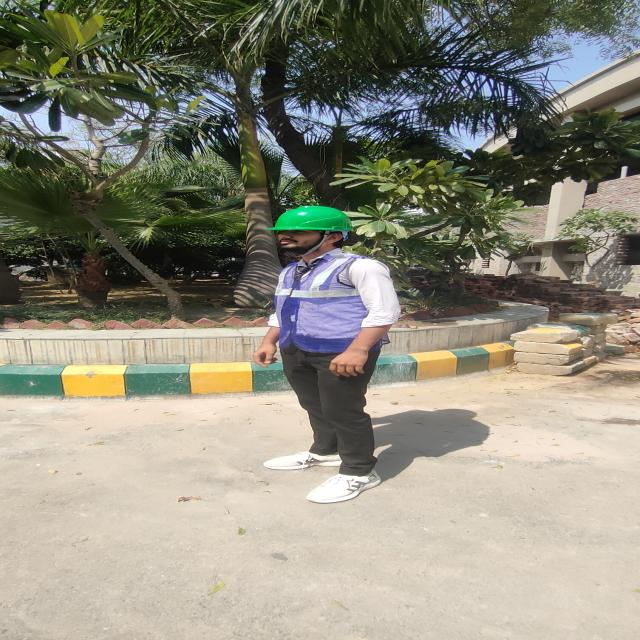safe: (257, 206, 400, 503)
